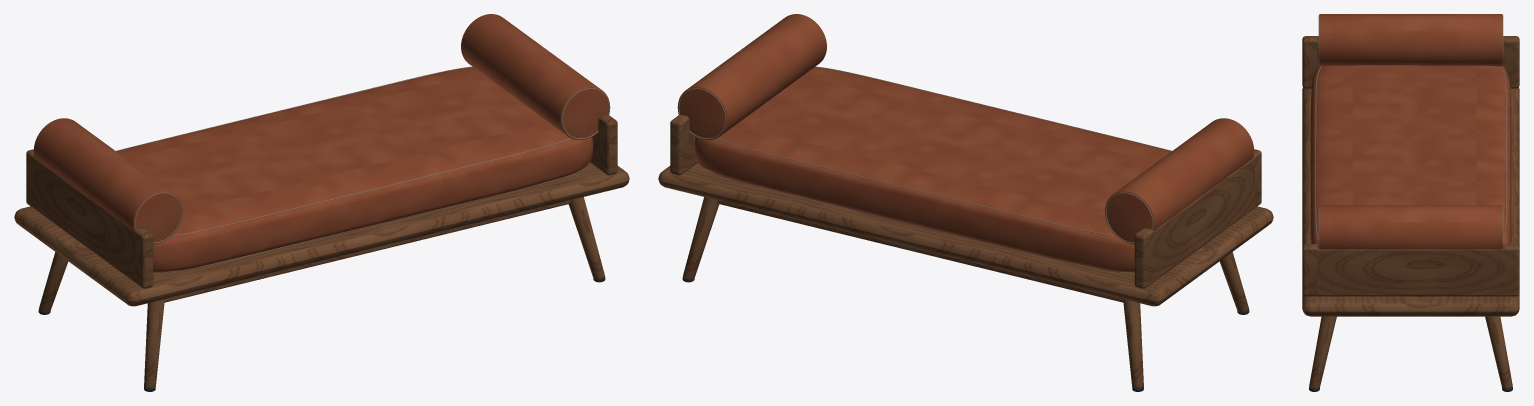
The picture shows the model from 3 angles, left to right: view 1: azimuth 30°, elevation 25°; view 2: azimuth 150°, elevation 25°; view 3: azimuth 270°, elevation 25°; orthographic projection. The views are drawn at different scales.
Visible parts, largest first — view 1: Leather | long mattress, Walnut | daybed platform, Leather | cylindrical end bolster.001, Leather | cylindrical end bolster, Walnut | raised end rail, Frame | cross apron, Walnut | raised end rail.001, Frame | tapered leg, Frame | tapered leg.002, Leather | long mattress | upper tailored welt, Frame | tapered leg.001; view 2: Leather | long mattress, Walnut | daybed platform, Leather | cylindrical end bolster.001, Leather | cylindrical end bolster, Walnut | raised end rail, Frame | cross apron.001, Walnut | raised end rail.001, Frame | tapered leg.001, Frame | tapered leg.003, Leather | long mattress | upper tailored welt, Frame | tapered leg; view 3: Leather | long mattress, Walnut | raised end rail.001, Leather | cylindrical end bolster, Leather | cylindrical end bolster.001, Walnut | daybed platform, Walnut | raised end rail, Frame | tapered leg.002, Frame | tapered leg.003, Leather | long mattress | upper tailored welt.
Boxes of the visible parts, bbox=[...] form: Leather | long mattress: bbox=[116, 67, 593, 272]; Walnut | daybed platform: bbox=[14, 163, 629, 306]; Leather | cylindrical end bolster.001: bbox=[461, 14, 610, 139]; Leather | cylindrical end bolster: bbox=[33, 118, 182, 244]; Walnut | raised end rail: bbox=[26, 149, 153, 288]; Frame | cross apron: bbox=[164, 200, 570, 302]; Walnut | raised end rail.001: bbox=[590, 114, 617, 175]; Frame | tapered leg: bbox=[144, 299, 164, 387]; Frame | tapered leg.002: bbox=[568, 197, 604, 279]; Leather | long mattress | upper tailored welt: bbox=[116, 66, 570, 236]; Frame | tapered leg.001: bbox=[39, 252, 68, 312]; Leather | long mattress: bbox=[694, 67, 1171, 271]; Walnut | daybed platform: bbox=[658, 163, 1273, 306]; Leather | cylindrical end bolster.001: bbox=[677, 14, 826, 139]; Leather | cylindrical end bolster: bbox=[1105, 118, 1254, 244]; Walnut | raised end rail: bbox=[1134, 149, 1261, 288]; Frame | cross apron.001: bbox=[717, 200, 1123, 302]; Walnut | raised end rail.001: bbox=[670, 114, 697, 175]; Frame | tapered leg.001: bbox=[1123, 299, 1143, 387]; Frame | tapered leg.003: bbox=[683, 197, 719, 279]; Leather | long mattress | upper tailored welt: bbox=[716, 66, 1171, 235]; Frame | tapered leg: bbox=[1219, 252, 1248, 312]; Leather | long mattress: bbox=[1310, 65, 1511, 243]; Walnut | raised end rail.001: bbox=[1302, 244, 1519, 296]; Leather | cylindrical end bolster: bbox=[1319, 14, 1502, 66]; Leather | cylindrical end bolster.001: bbox=[1319, 205, 1502, 249]; Walnut | daybed platform: bbox=[1302, 87, 1519, 316]; Walnut | raised end rail: bbox=[1302, 36, 1519, 88]; Frame | tapered leg.002: bbox=[1309, 316, 1336, 388]; Frame | tapered leg.003: bbox=[1485, 316, 1512, 388]; Leather | long mattress | upper tailored welt: bbox=[1315, 66, 1506, 240].
Size of the model in its own units: 1.96 by 0.719 by 0.8.
4 materials, 2 textured.
